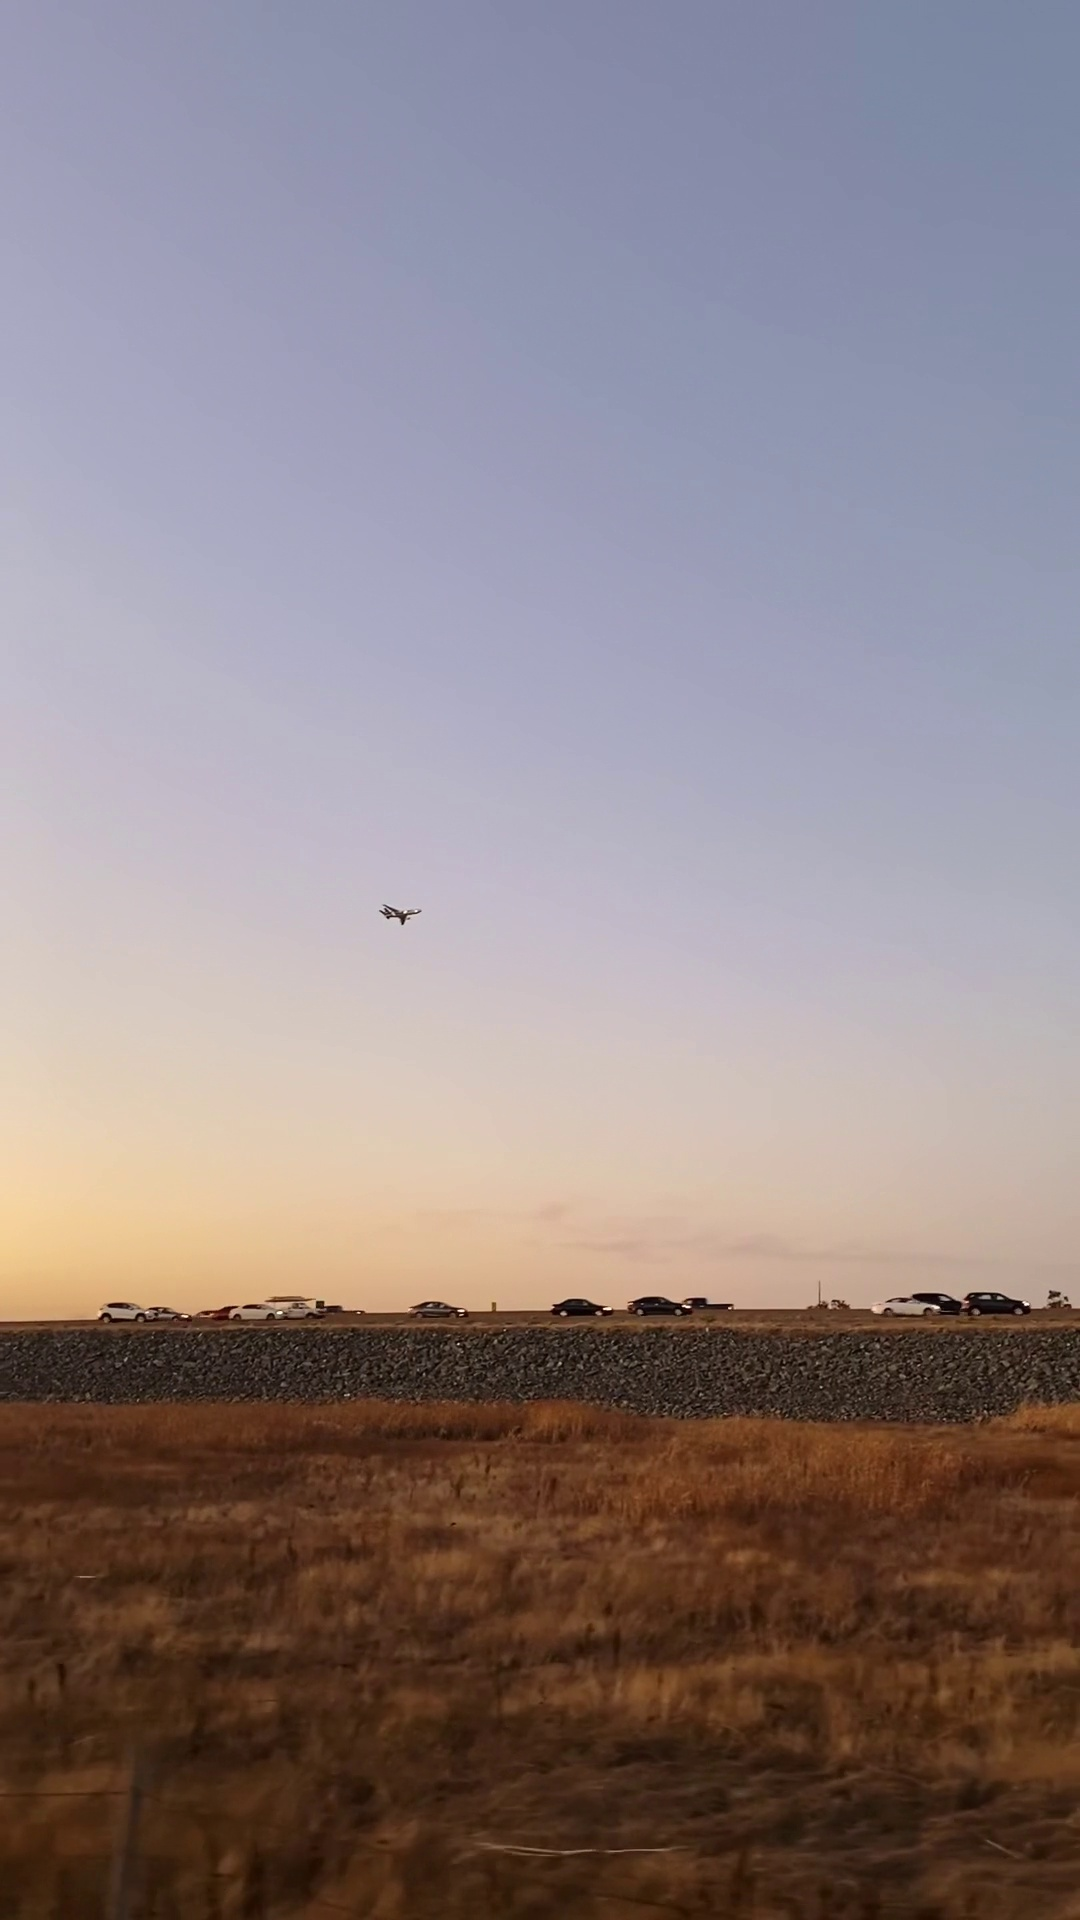plane: (378, 905, 421, 927)
